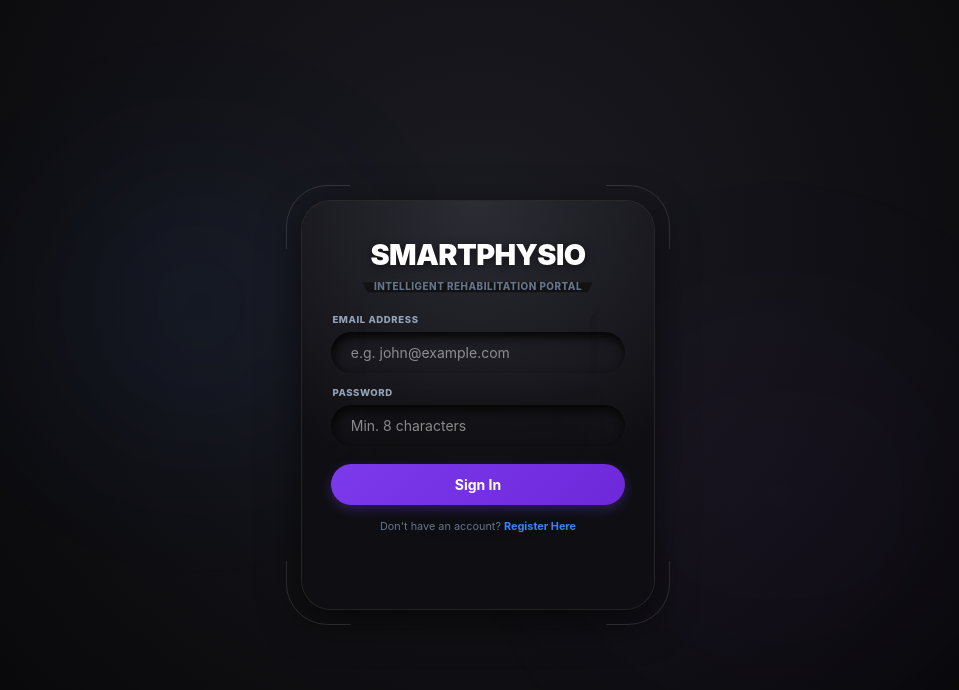
Test: LoginPage Component › displays API error message on login failure
Type "user@example.com" into the field with placeholder "e.g. john@example.com". click: (478, 353)
box: 331,332 -> 625,373
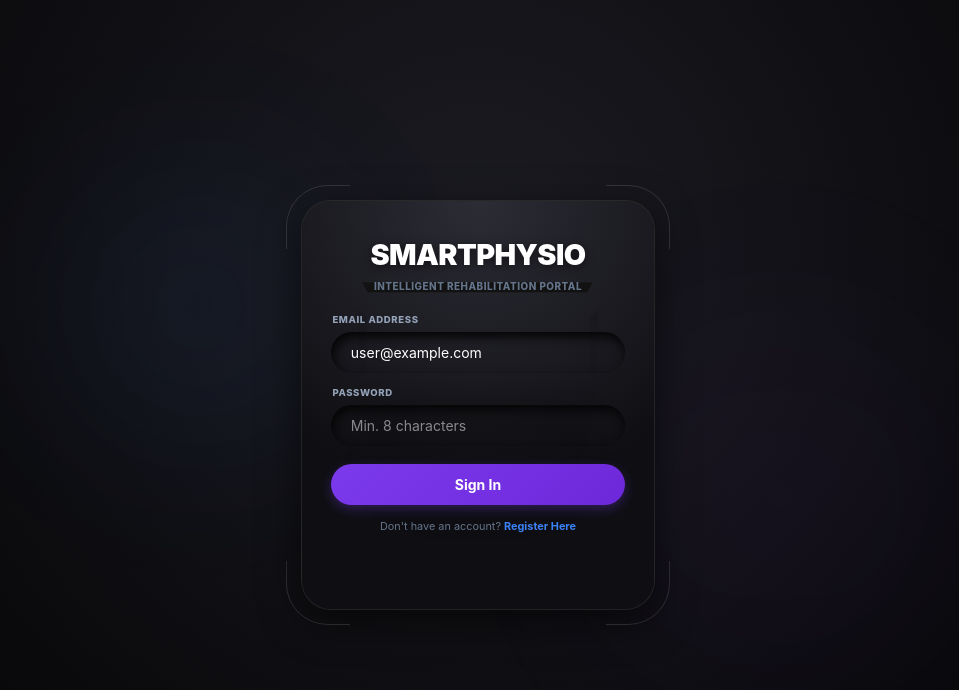
Type "wrongpassword" into the password field with placeholder "Min. 8 characters". click: (478, 426)
box: 331,405 -> 625,446
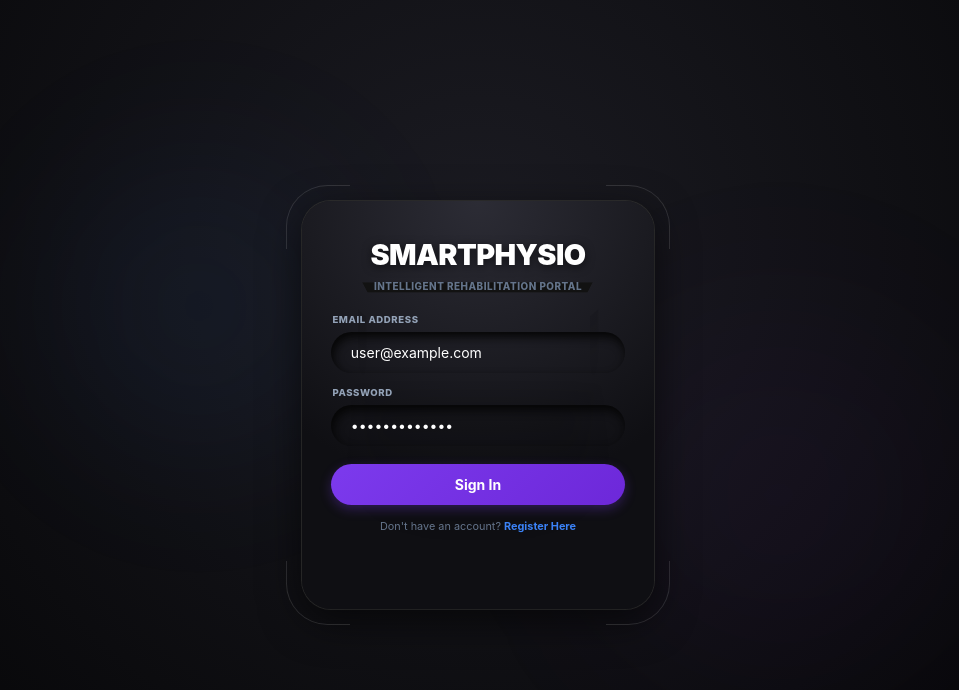
Click the button "Sign In". click: click(478, 484)
box: 331,464 -> 625,505
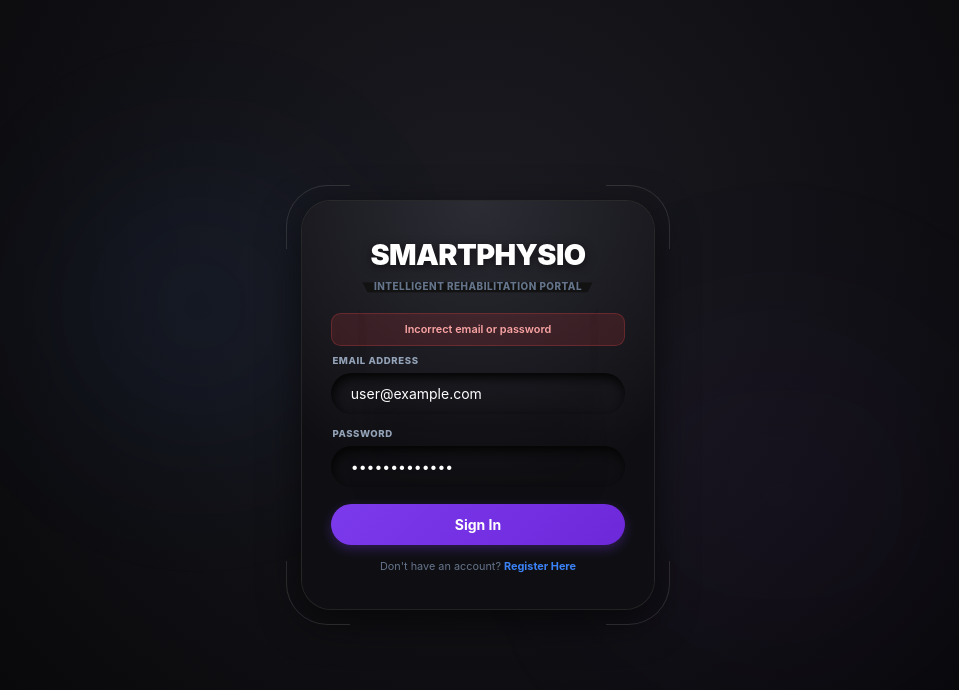
Result: the text "Incorrect email or password" is shown at 331,313 -> 625,346
